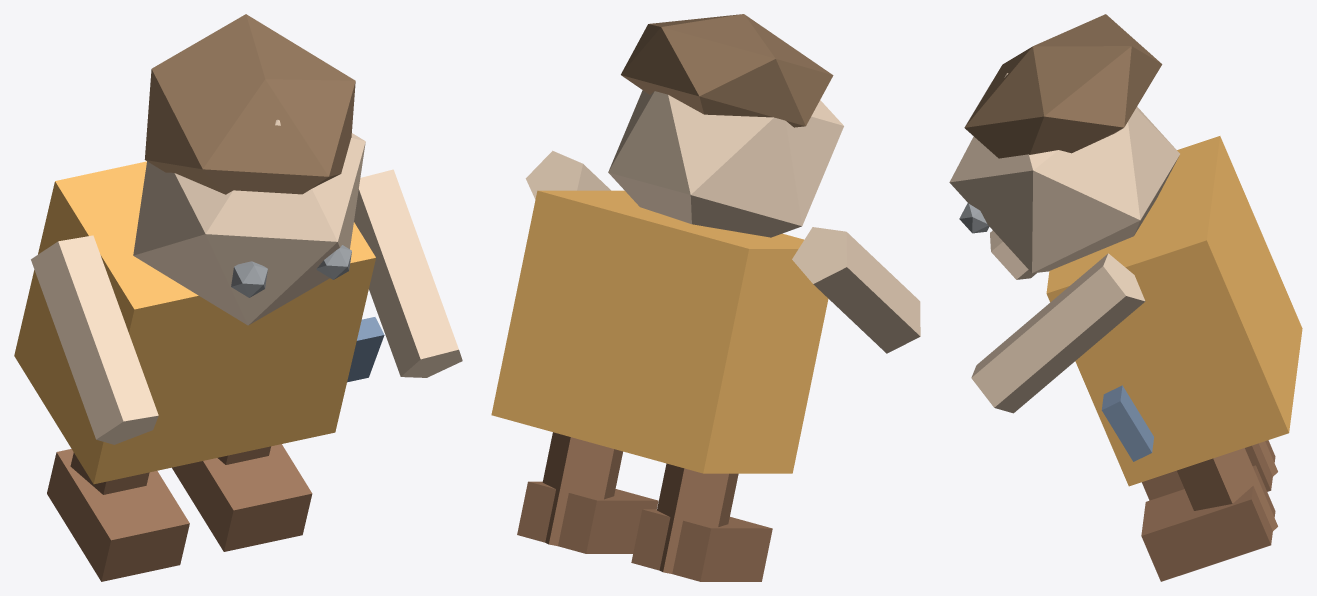
Rendered from npcpose_villager_walk_08.glb.
3 views of the same model, side by side, from view 1: azimuth 30°, elevation 25°; view 2: azimuth 150°, elevation 25°; view 3: azimuth 270°, elevation 25° (orthographic). The views are drawn at different scales.
Visible parts, largest first — view 1: npcpose; view 2: npcpose; view 3: npcpose.
Boxes of the visible parts, <box> form: npcpose: <box>14,14,462,581</box>; npcpose: <box>491,14,920,581</box>; npcpose: <box>949,14,1302,581</box>.
Size of the model in its own units: 0.71 by 1.03 by 0.6554.
